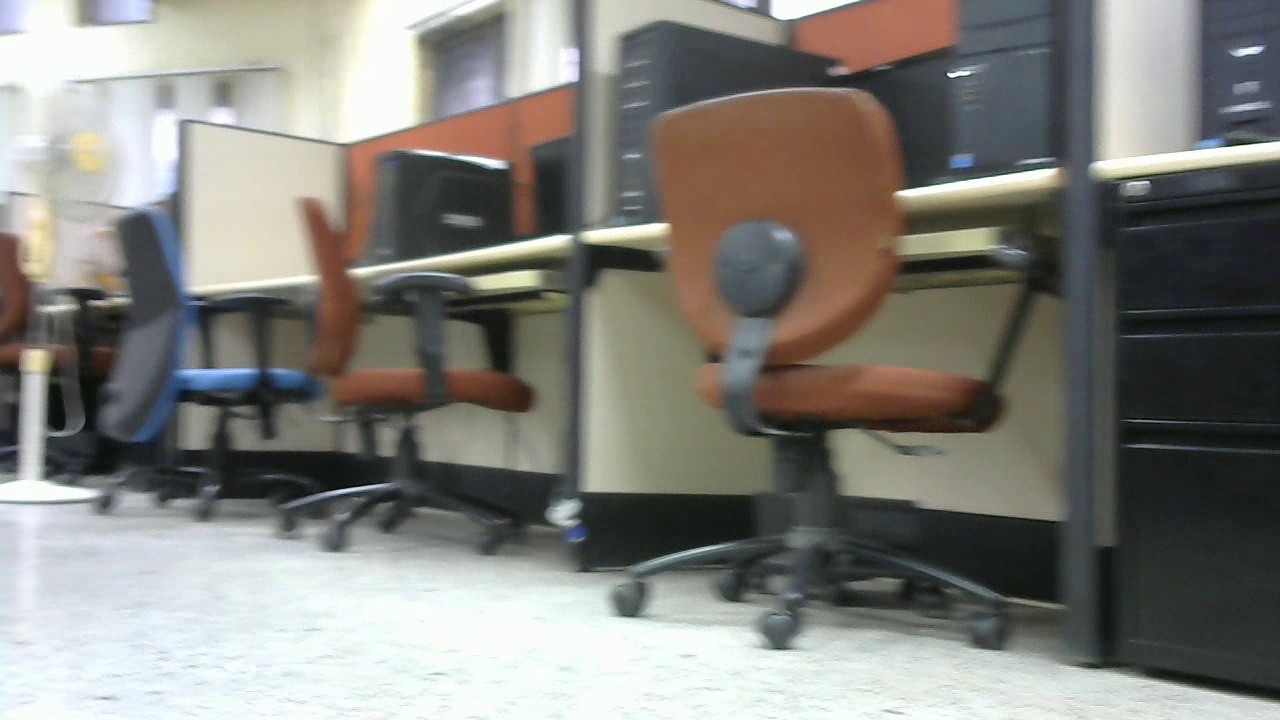chair: (608, 79, 1027, 647), (285, 198, 543, 557), (92, 205, 321, 519), (1, 228, 117, 472)
